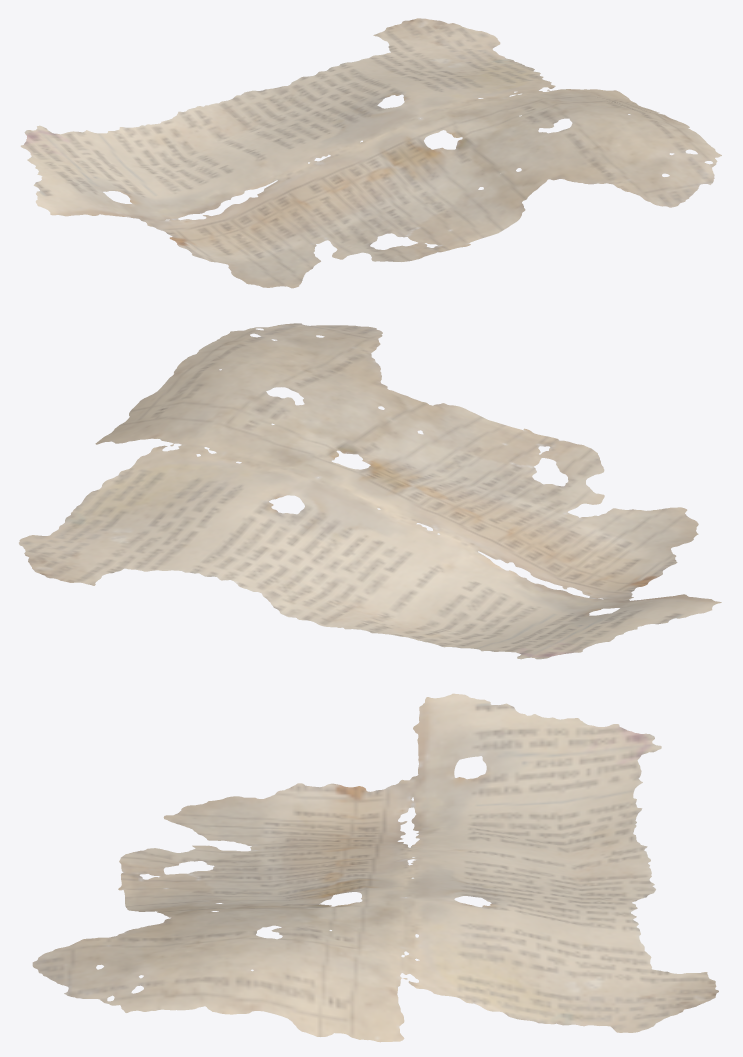
File: SM_Paper_013.fbx
3 views of the same model, one above another, from view 1: azimuth 30°, elevation 25°; view 2: azimuth 150°, elevation 25°; view 3: azimuth 270°, elevation 25° (orthographic). The views are drawn at different scales.
Parts seen in each view (by area): view 1: SM_Paper_013; view 2: SM_Paper_013; view 3: SM_Paper_013.
Part boxes in pixels (x1,y1,x2,y2): SM_Paper_013: (20,18,721,288); SM_Paper_013: (19,323,721,659); SM_Paper_013: (32,693,718,1042).
Bounding box in the file's own units: 44 × 38.59 × 4.77.
Materials: 1 (1 with a texture image).
